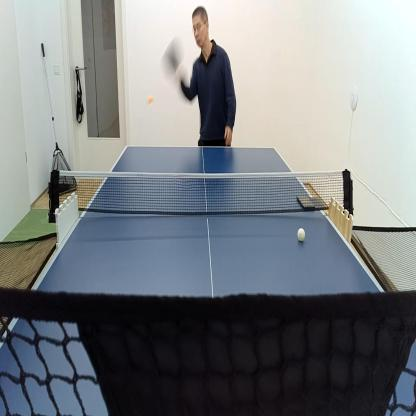Ball: (297, 226, 307, 244), (147, 93, 154, 106)
